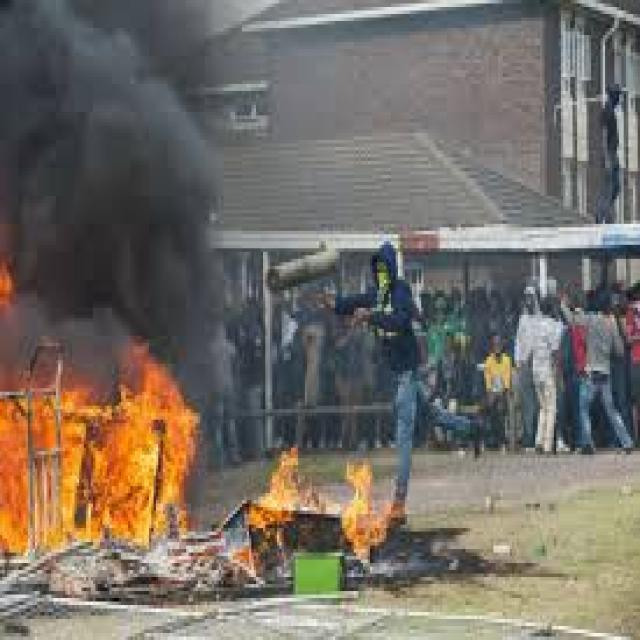Fire: (1, 341, 199, 554), (238, 448, 403, 571), (0, 241, 19, 322)
Smoke: (2, 0, 214, 243), (21, 246, 220, 340), (200, 338, 230, 460)
